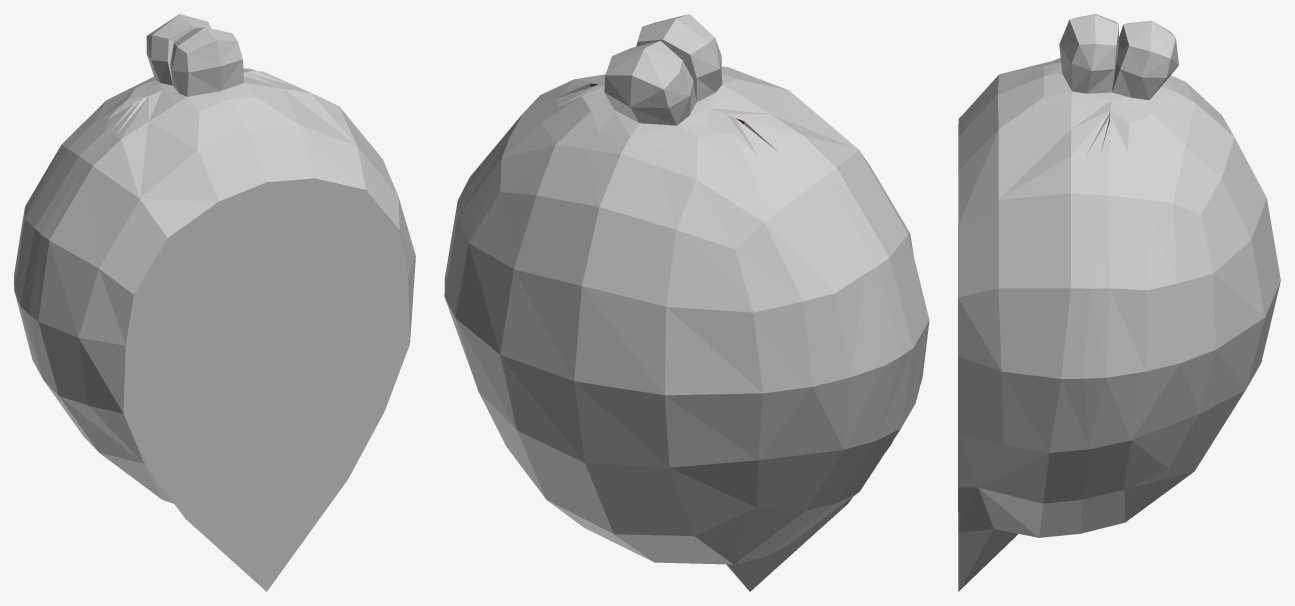
The model's file is BR_Gulpin.obj.
3 renders of one model, left to right at view 1: azimuth 30°, elevation 25°; view 2: azimuth 150°, elevation 25°; view 3: azimuth 270°, elevation 25°, orthographic. The views are drawn at different scales.
Parts seen in each view (by area): view 1: gokulin; view 2: gokulin; view 3: gokulin.
Boxes of the visible parts, <box> form: gokulin: <box>14,14,415,591</box>; gokulin: <box>444,14,929,591</box>; gokulin: <box>958,14,1280,591</box>.
Size of the model in its own units: 4.48 by 6.12 by 3.1.
